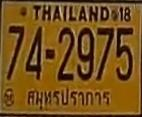2: (58, 27, 74, 81)
4: (24, 25, 42, 79)
5: (115, 27, 137, 80)
7: (96, 27, 114, 80), (8, 25, 23, 81)
9: (78, 26, 95, 81)
SPK: (24, 87, 113, 109)
